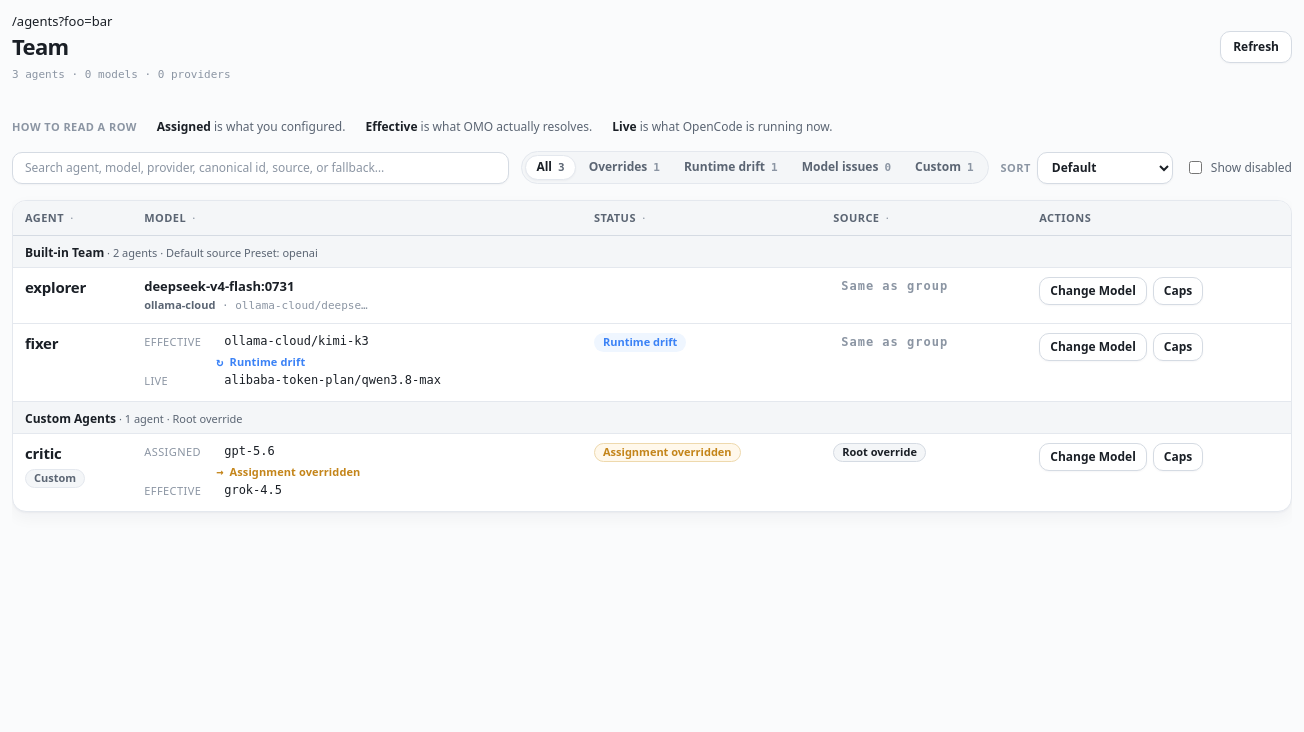
Scenario: agents URL state — updates › control changes replace, persist, and preserve unrelated params
The image size is (1304, 732).
Click the radio button with aria-label "Runtime drift,": click(731, 168) top-left (673, 156), bottom-right (789, 180)
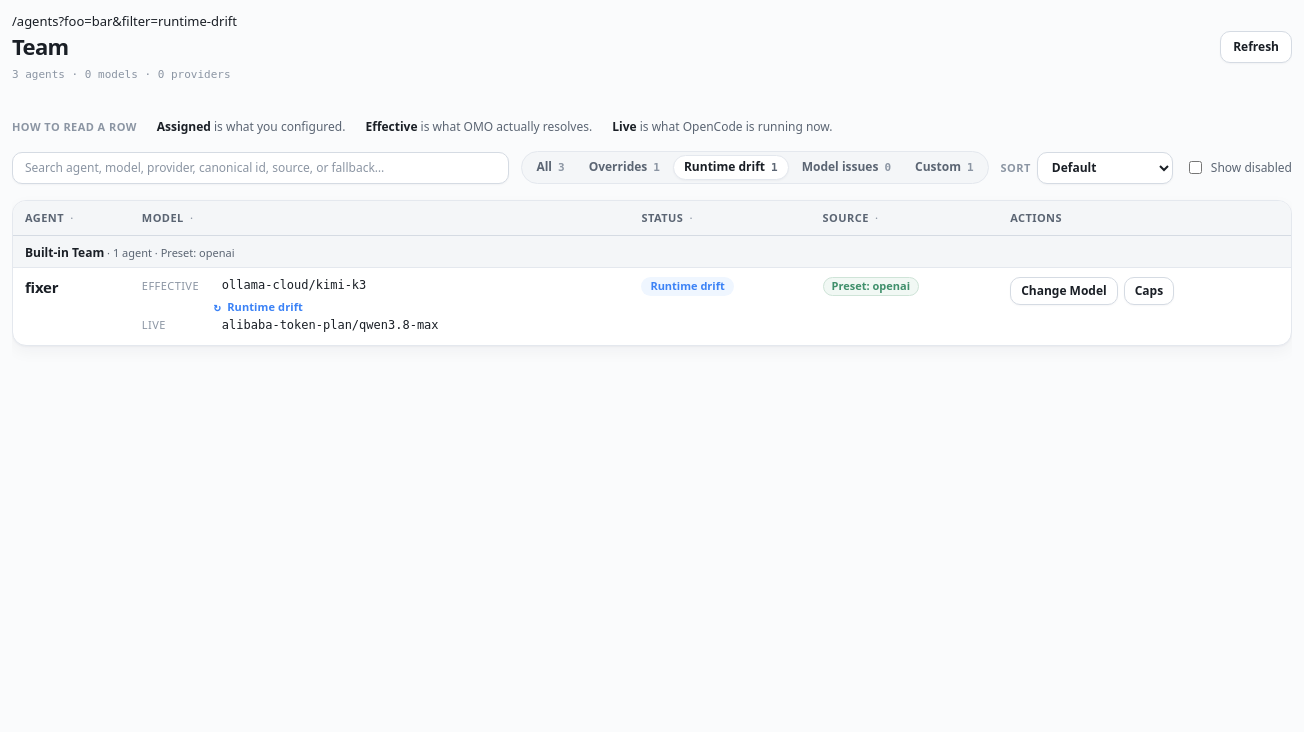
Check: the text with test id "loc" reads "/agents?foo=bar&filter=runtime-drift", box top-left (12, 12), bottom-right (237, 30)
Click the checkbox labelled "Show disabled": click(1195, 168) top-left (1189, 161), bottom-right (1202, 174)
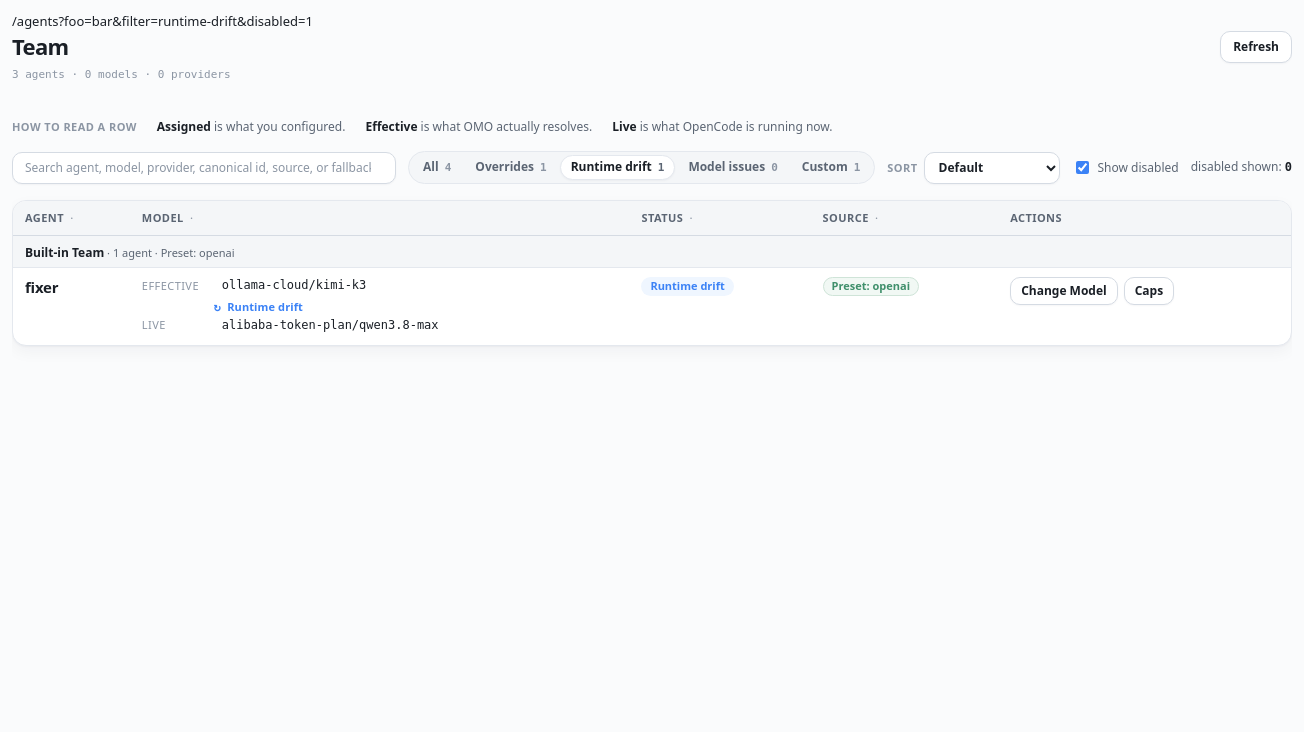
Check: the text with test id "loc" shows "foo=bar", box top-left (58, 12), bottom-right (313, 30)
Check: the text with test id "loc" shows "disabled=1", box top-left (58, 12), bottom-right (313, 30)
